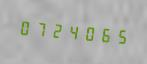five: (113, 23, 128, 48)
four: (65, 19, 80, 44)
seven: (33, 16, 48, 41)
six: (97, 22, 112, 47)
two: (49, 17, 64, 43)
zero: (17, 15, 32, 40), (81, 20, 96, 45)
